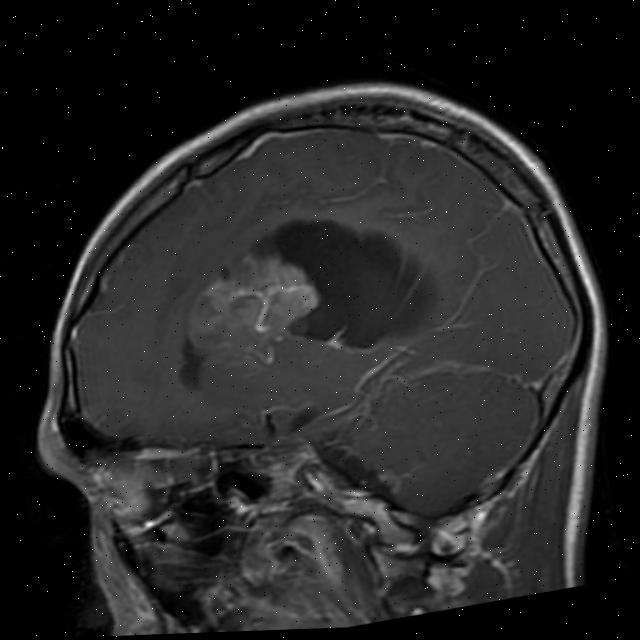Glioma: (176, 240, 329, 376)
